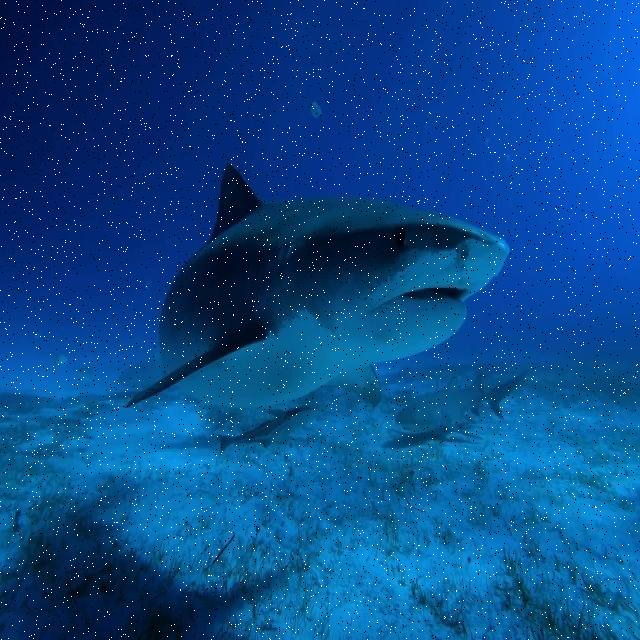fish: (118, 161, 509, 410), (395, 371, 529, 439), (219, 404, 315, 454)
